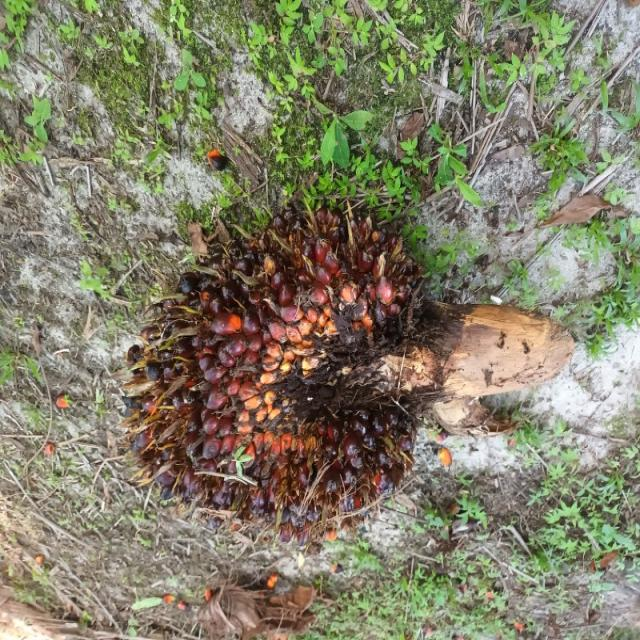fraksi 1: (143, 56, 531, 448)
